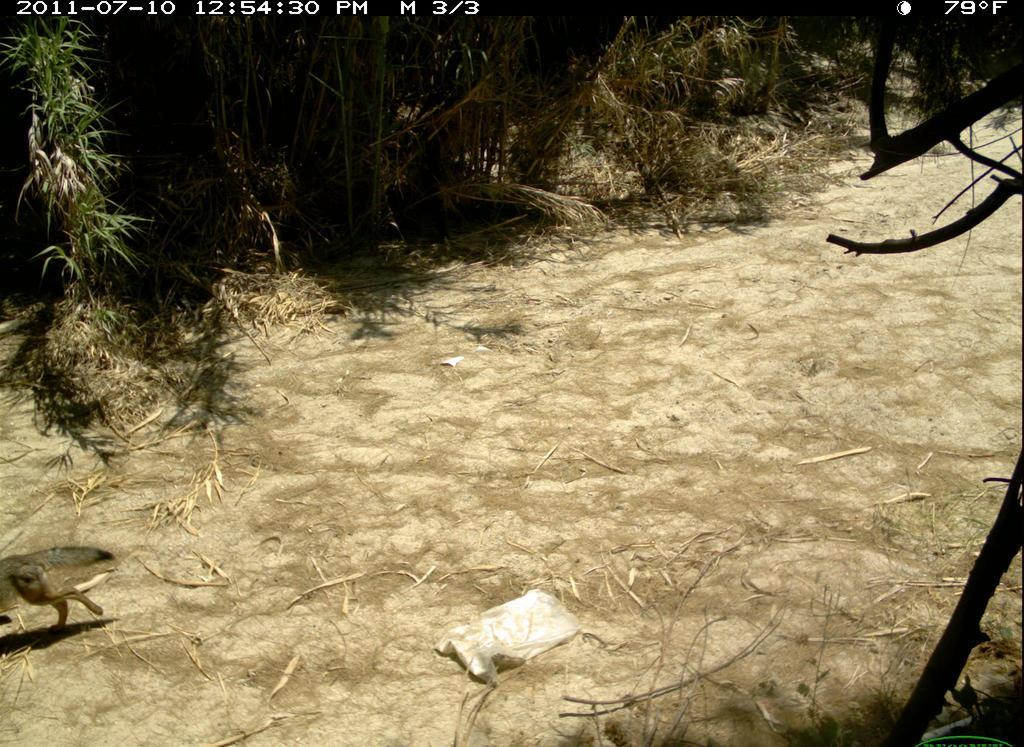coyote: (4, 525, 129, 646)
